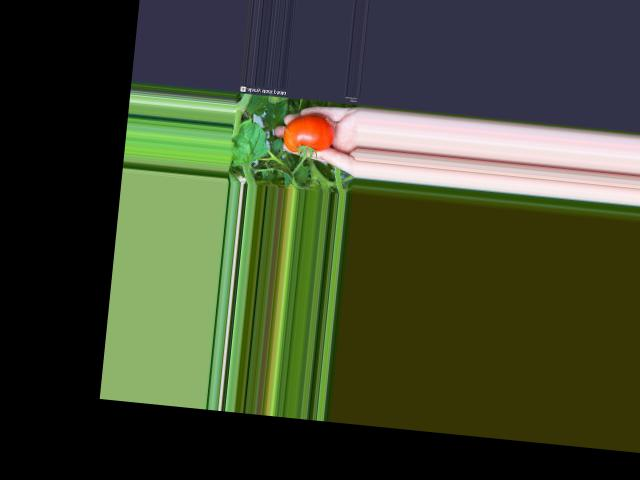tomato: (282, 111, 337, 155)
